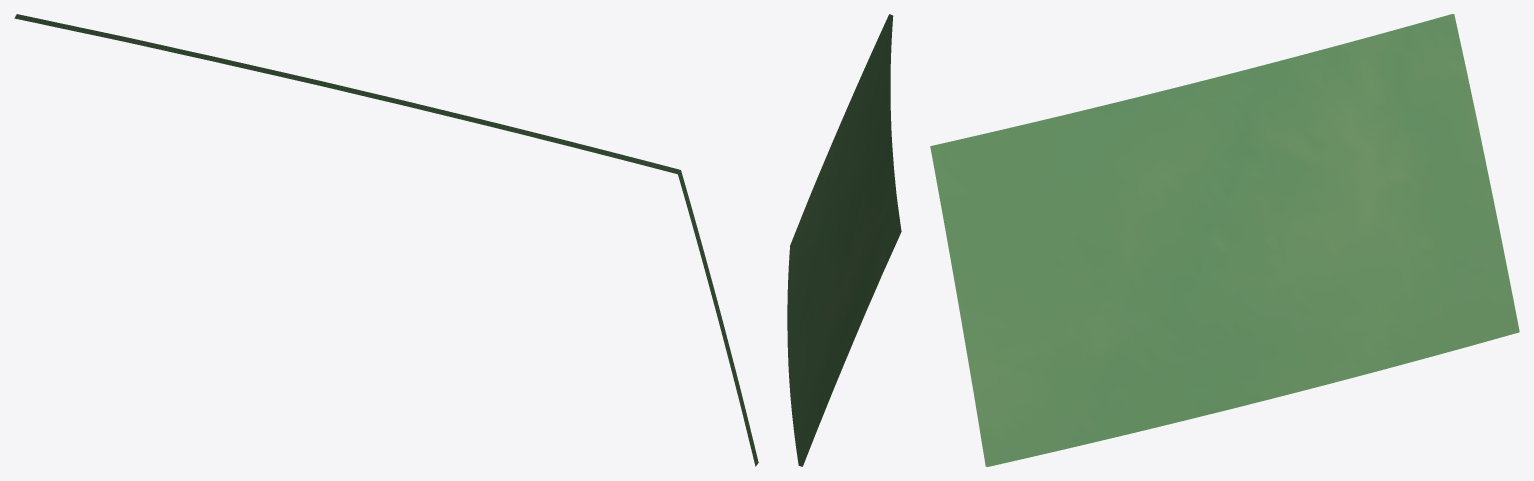
3 views of the same model, side by side, from view 1: azimuth 30°, elevation 25°; view 2: azimuth 150°, elevation 25°; view 3: azimuth 270°, elevation 25° (orthographic). The views are drawn at different scales.
Visible parts, largest first — view 1: geometry_0; view 2: geometry_0; view 3: geometry_0.
Part boxes in pixels (x1=…): geometry_0: x1=14, y1=14, x2=758, y2=466; geometry_0: x1=787, y1=14, x2=901, y2=466; geometry_0: x1=930, y1=14, x2=1519, y2=466.
Bounding box in the file's own units: 400080 × 292218 × 560695.
